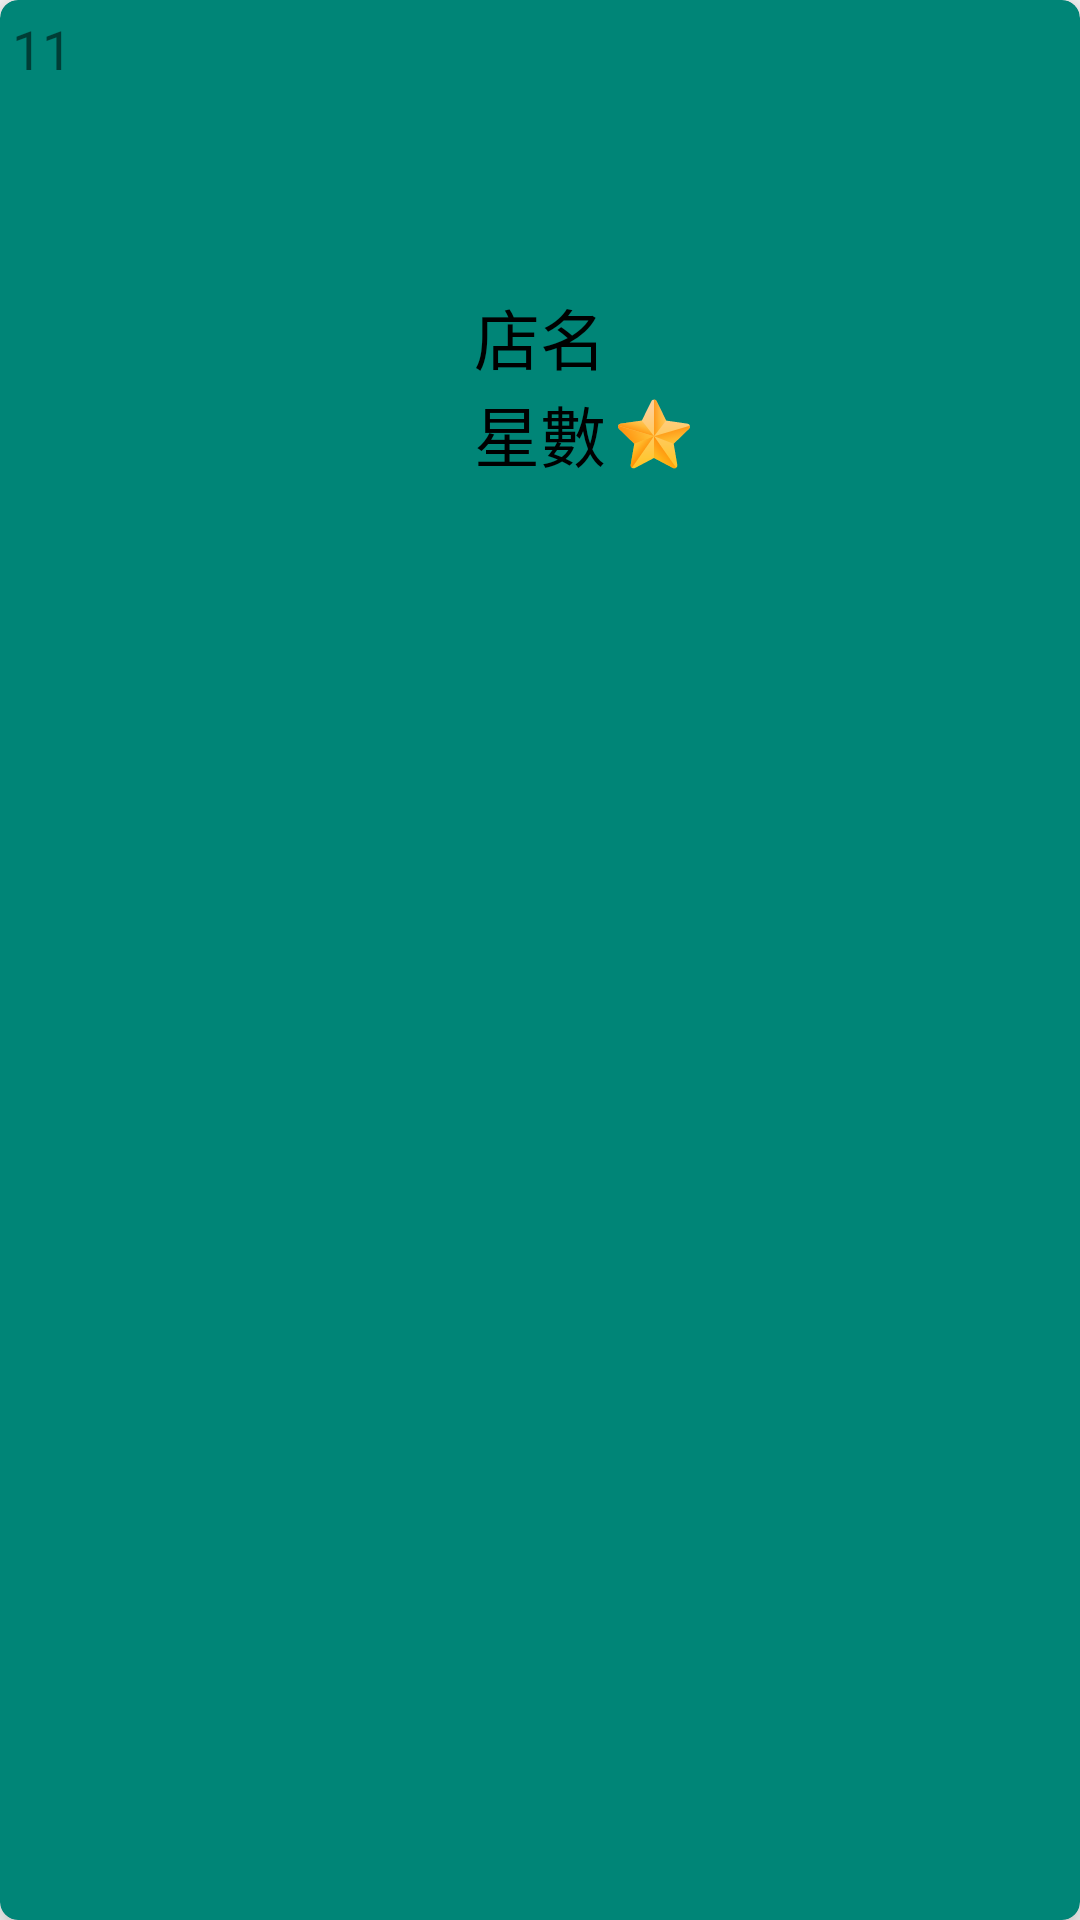

Locate icon controls on the screen. Image size 1080 x 1920, boxes as (x1, y1, x2, y2).
star: (618, 399, 690, 469)
